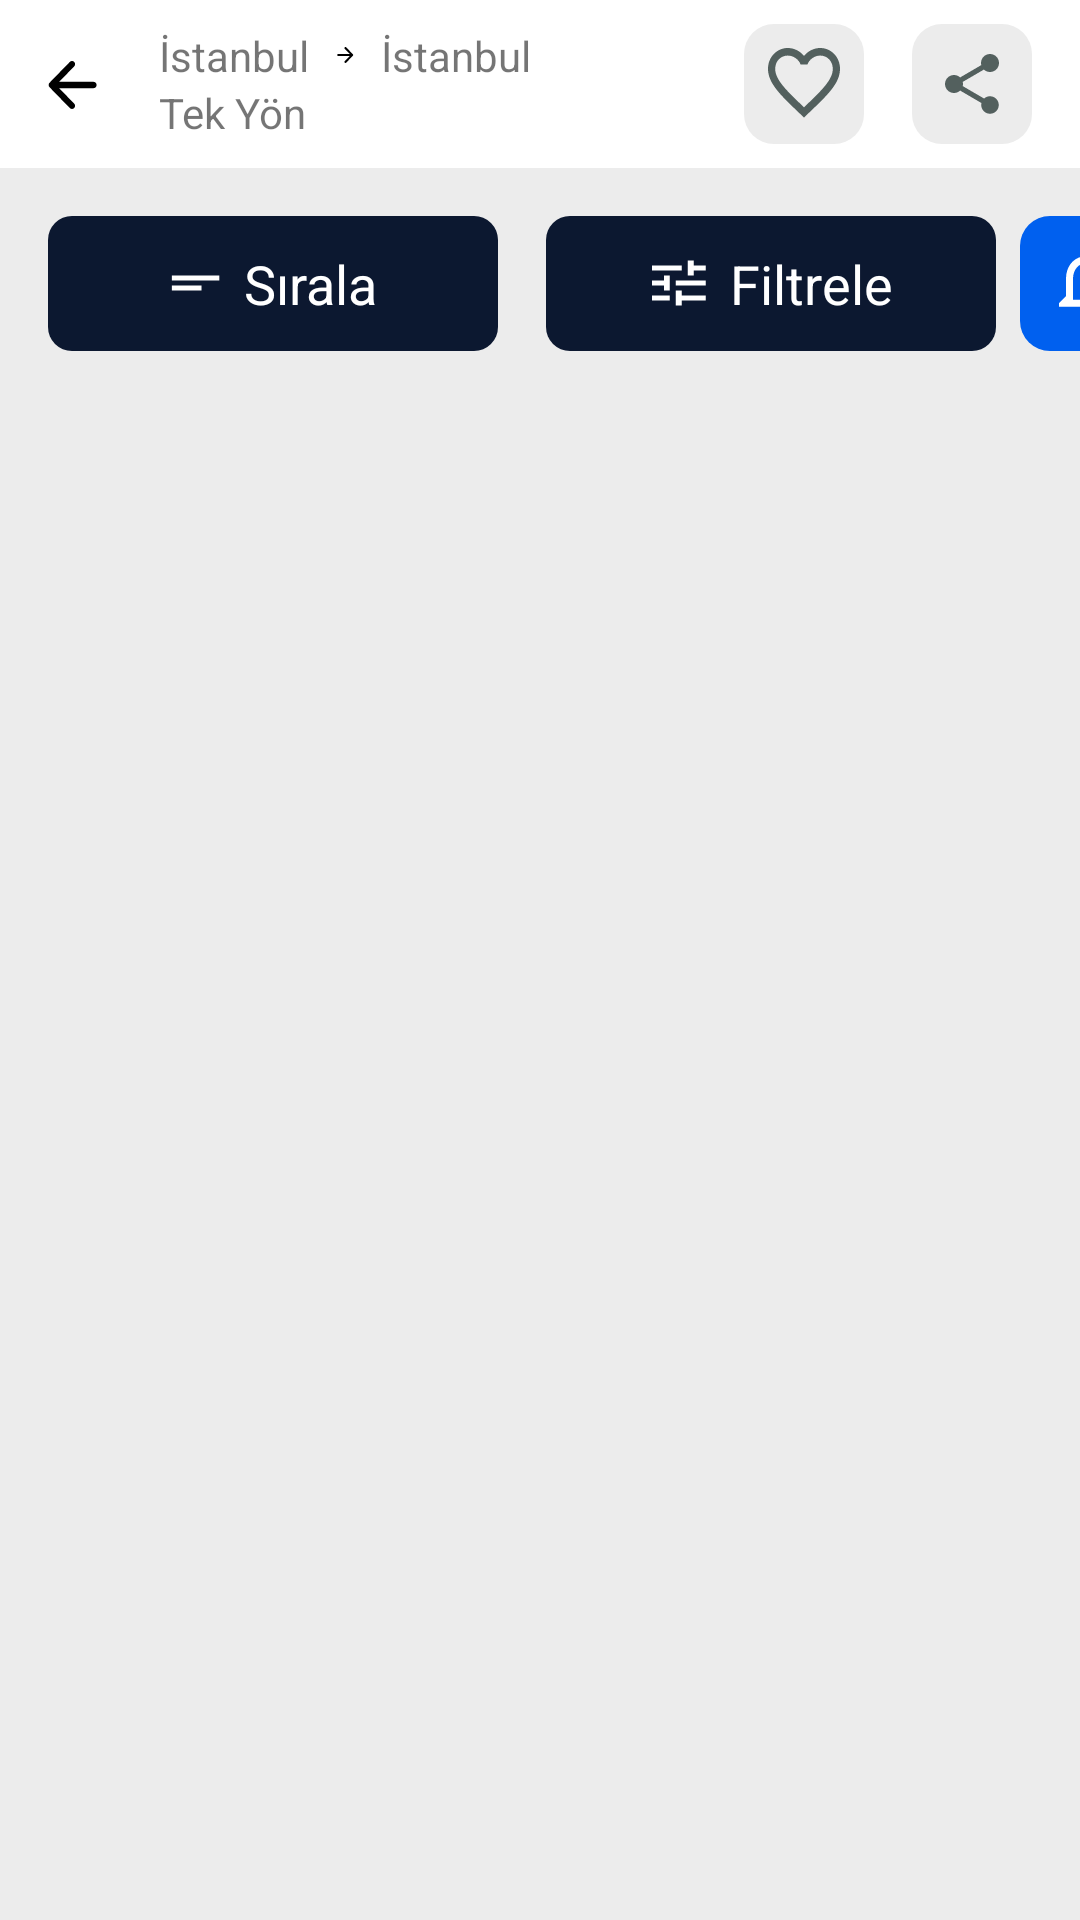

Icons on this 1080px x 1920px Android screen, each with the point to tap as point (x, y):
arrow back: point (72, 85)
filter: point (679, 283)
heart: point (804, 84)
share: point (972, 84)
